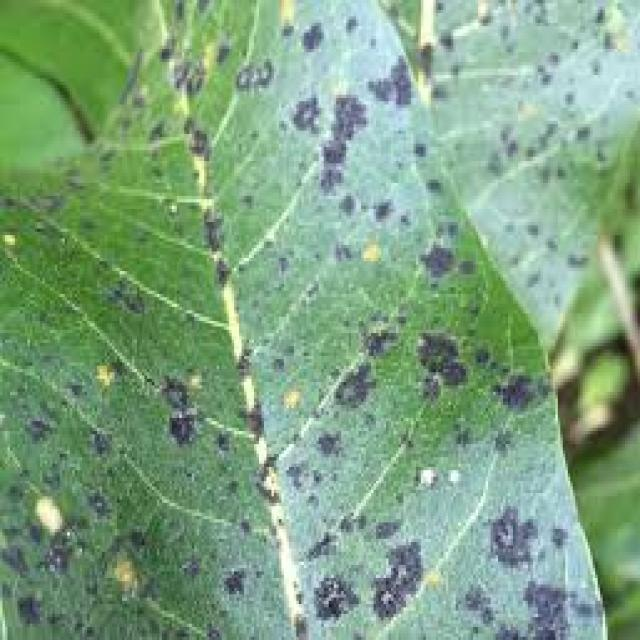black-spot: (260, 57, 522, 527)
